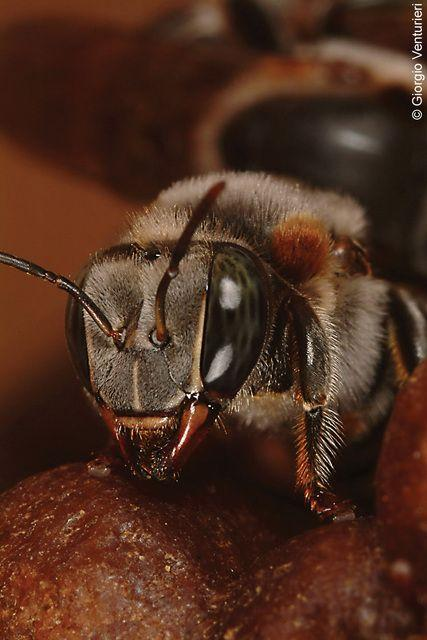Meliponula: (0, 167, 427, 527)
